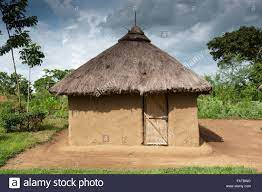Mud House: (48, 23, 214, 154)
